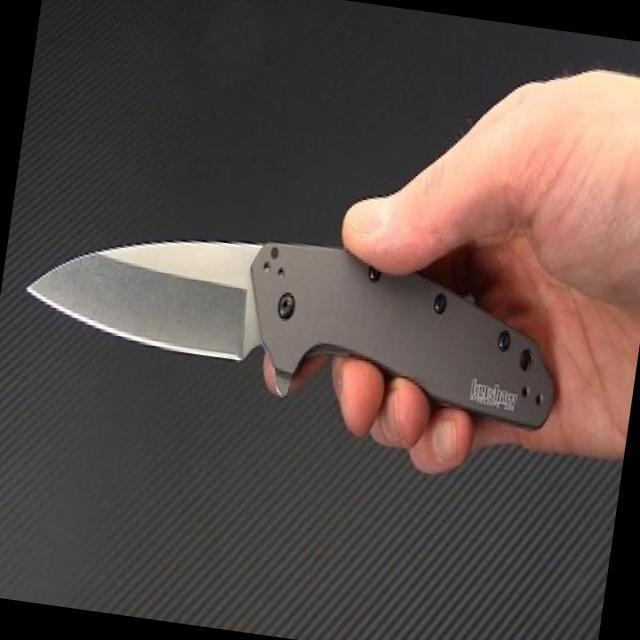Knife: (0, 184, 581, 497)
